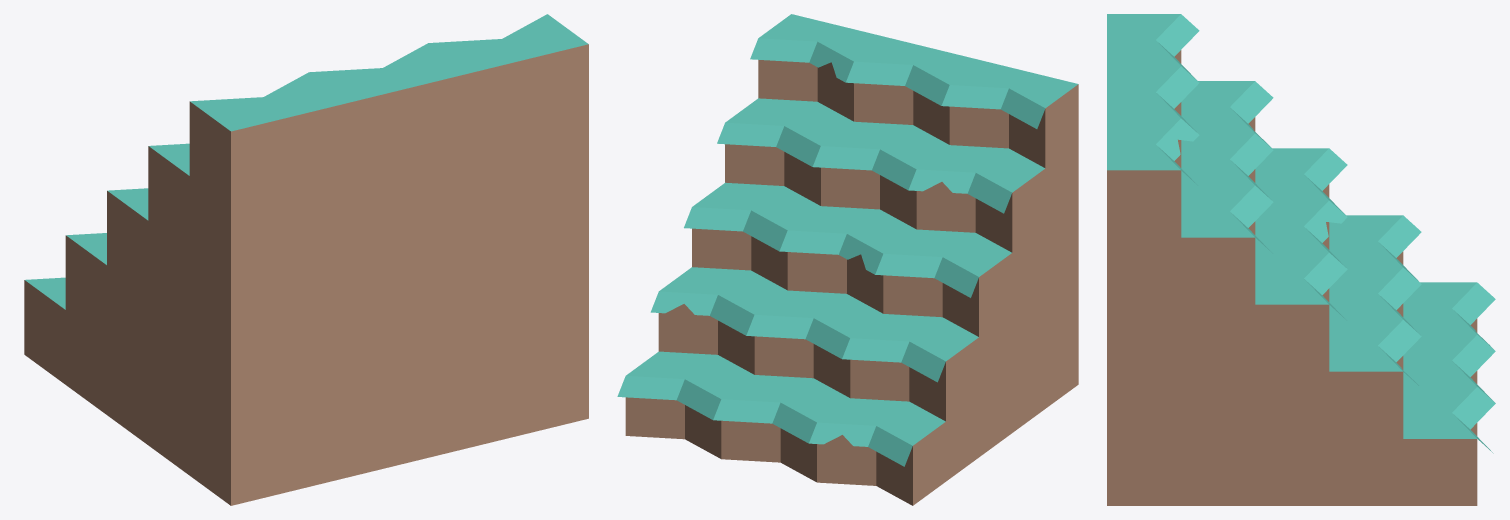
Rendered from cliff_steps_rock.glb.
3 views of the same model, side by side, from view 1: azimuth 30°, elevation 25°; view 2: azimuth 150°, elevation 25°; view 3: azimuth 270°, elevation 25° (orthographic). The views are drawn at different scales.
Parts seen in each view (by area): view 1: cliff_steps_rock; view 2: cliff_steps_rock; view 3: cliff_steps_rock.
Boxes of the visible parts, <box> form: cliff_steps_rock: <box>24,14,588,505</box>; cliff_steps_rock: <box>617,14,1078,505</box>; cliff_steps_rock: <box>1107,14,1495,505</box>.
Size of the model in its own units: 1 by 1 by 1.05.
